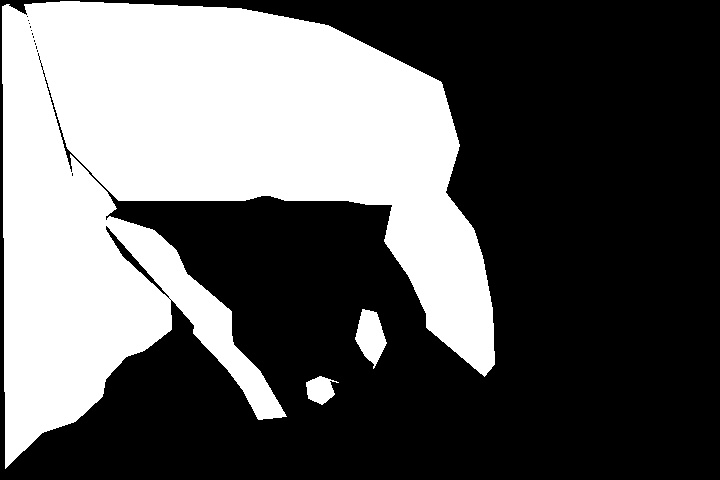Fire: (56, 98, 289, 467)
